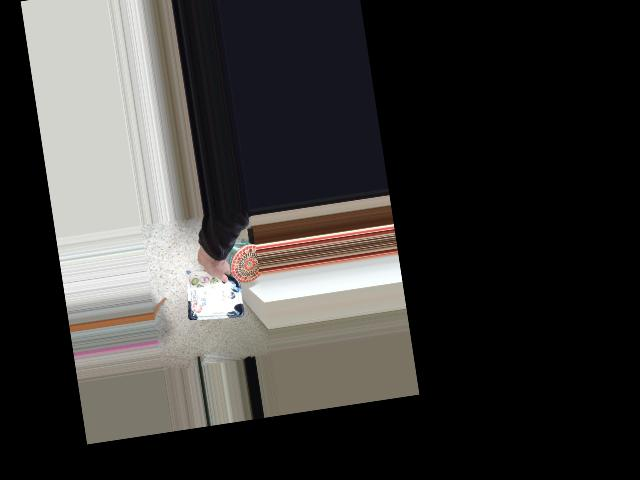cheese: (180, 244, 244, 313)
